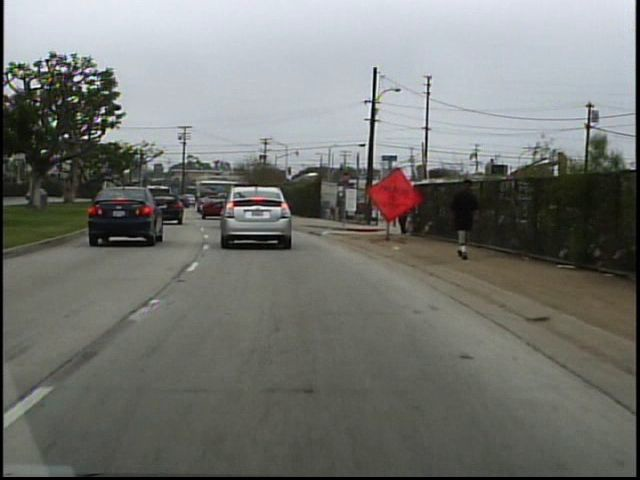person: (444, 172, 482, 264)
